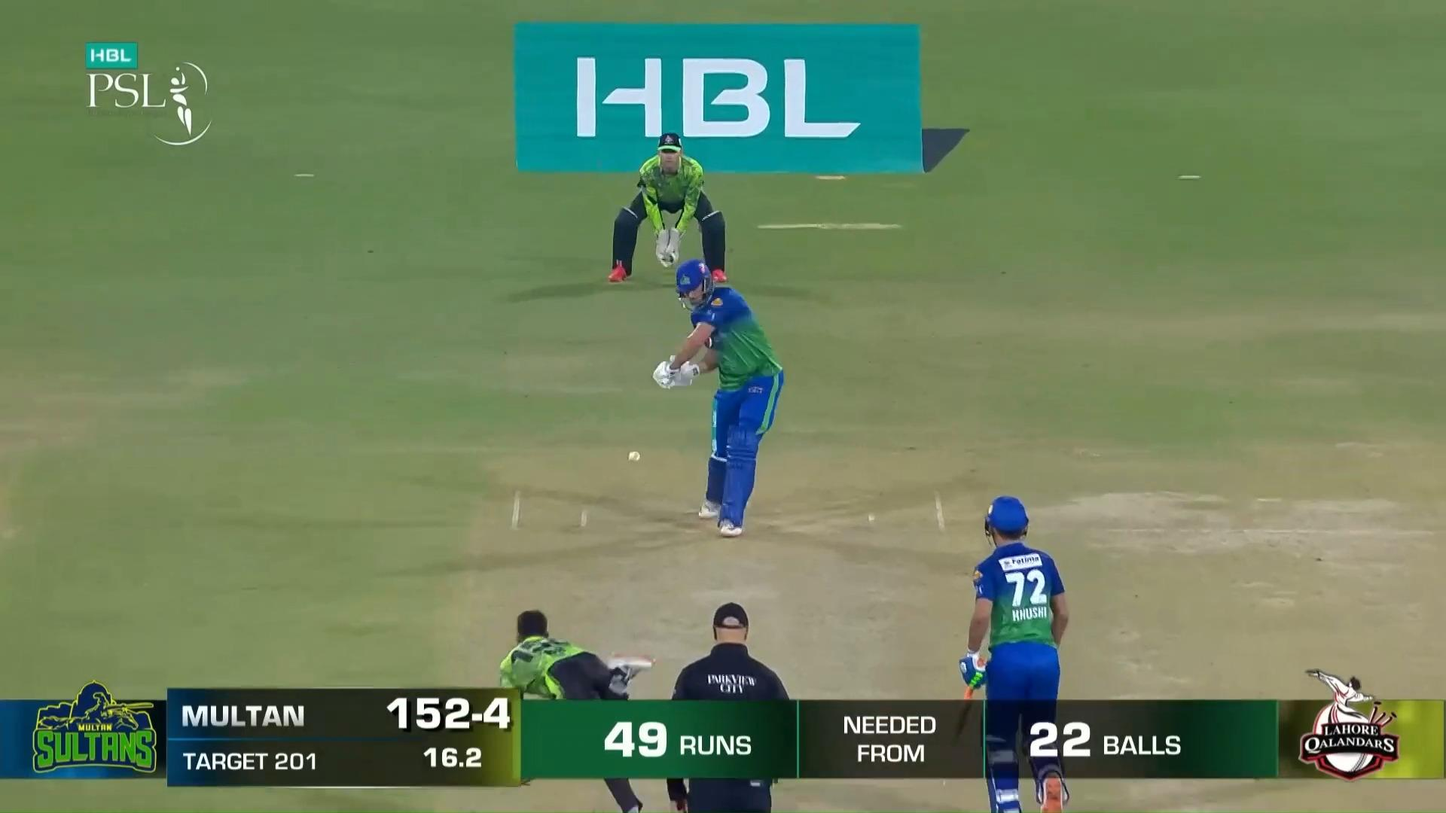batsman: (653, 259, 784, 537)
